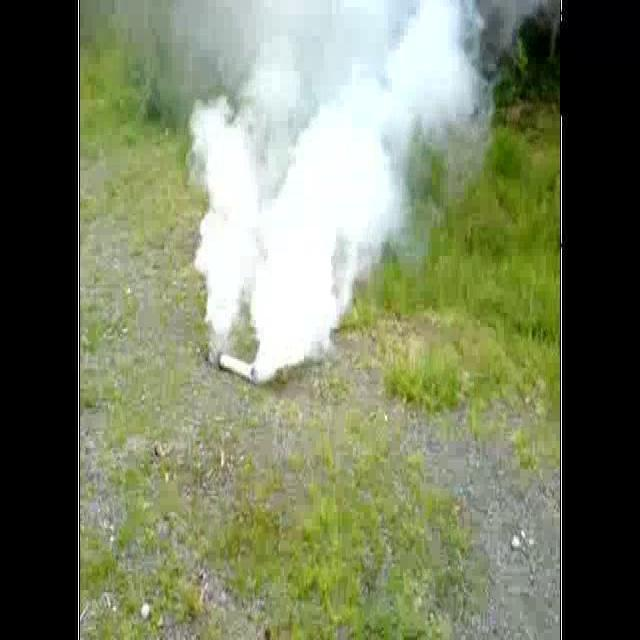Smoke: (144, 0, 552, 392)
